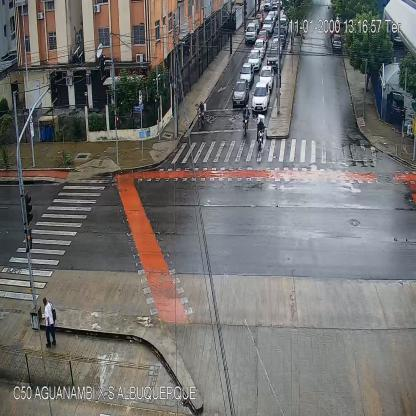car: (252, 82, 269, 112), (233, 80, 248, 107), (259, 66, 273, 90), (239, 62, 254, 83), (248, 50, 261, 70), (253, 38, 266, 56), (267, 51, 279, 70), (245, 23, 256, 42), (274, 26, 285, 44), (263, 16, 273, 34), (277, 18, 288, 34), (271, 38, 282, 53), (257, 29, 268, 44), (332, 35, 342, 49), (252, 18, 261, 31), (263, 0, 273, 10), (256, 12, 264, 24), (268, 11, 274, 24), (272, 4, 278, 17)
motorbike: (196, 101, 206, 129), (241, 104, 250, 135), (257, 117, 264, 148)
person: (43, 297, 58, 347)
